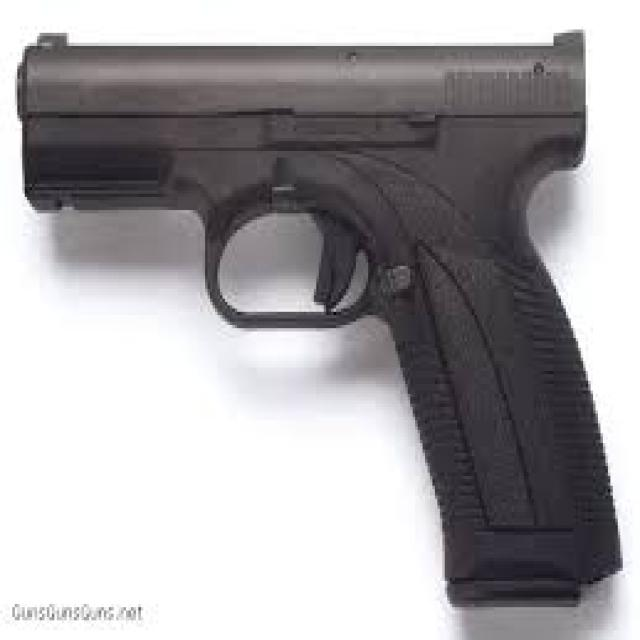Gun: (9, 24, 633, 621)
